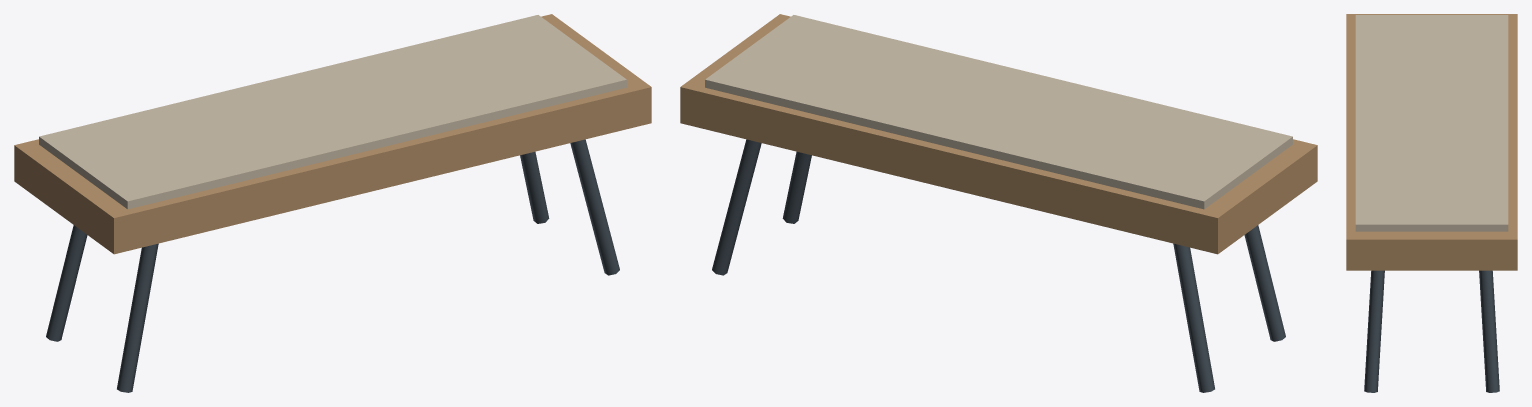
The model's file is bench-1.glb.
3 renders of one model, left to right at view 1: azimuth 30°, elevation 25°; view 2: azimuth 150°, elevation 25°; view 3: azimuth 270°, elevation 25°, orthographic. The views are drawn at different scales.
Parts seen in each view (by area): view 1: bench:1:editor; view 2: bench:1:editor; view 3: bench:1:editor.
Part boxes in pixels (box(x1,y1,x2,y2)): bench:1:editor: box(14, 14, 651, 392); bench:1:editor: box(680, 14, 1317, 392); bench:1:editor: box(1346, 14, 1517, 392).
Size of the model in its own units: 1.4 by 0.4941 by 0.45.
